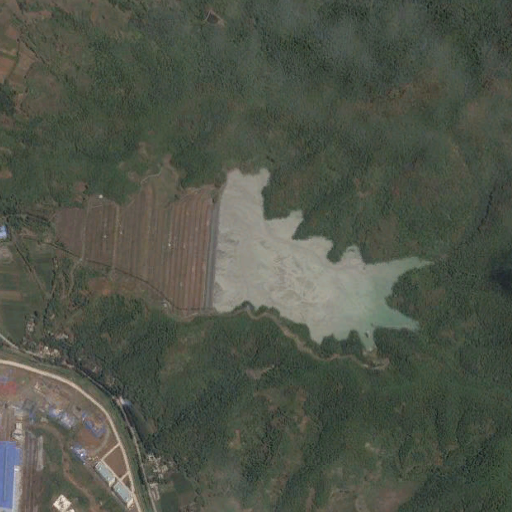tp: (54, 165, 435, 349)
